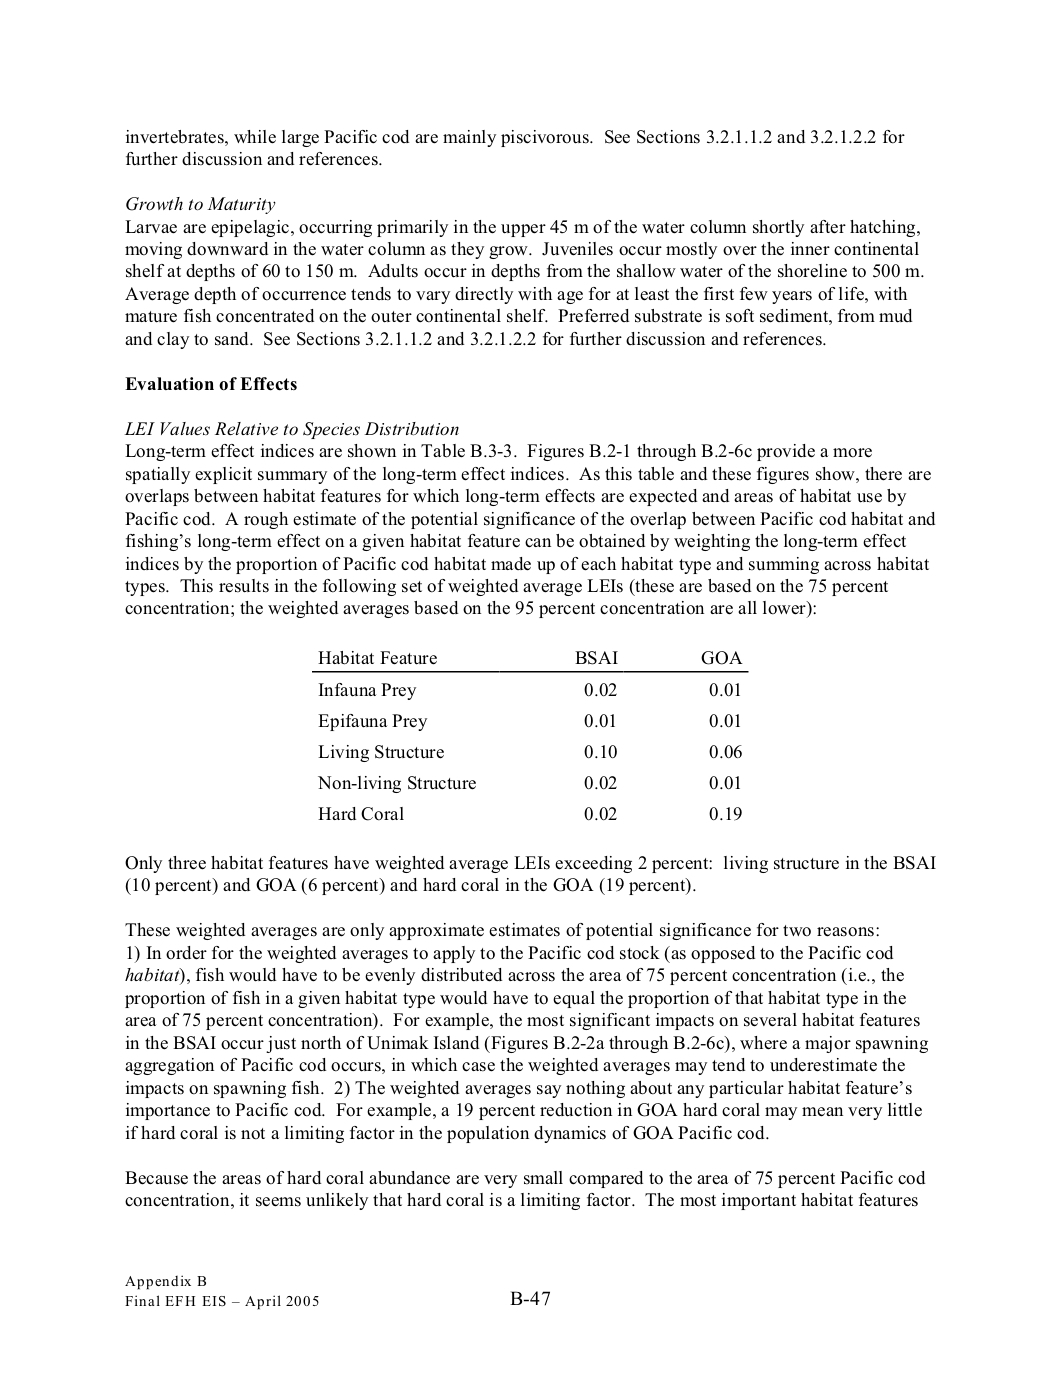Table: (312, 650, 748, 820)
